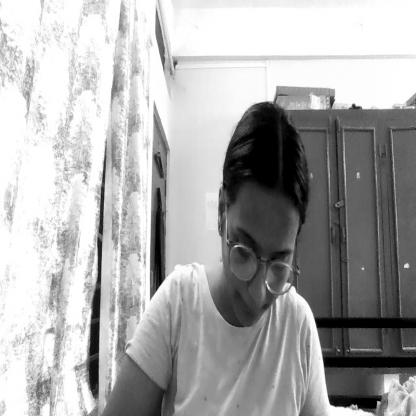Distracted: (223, 114, 299, 337)
